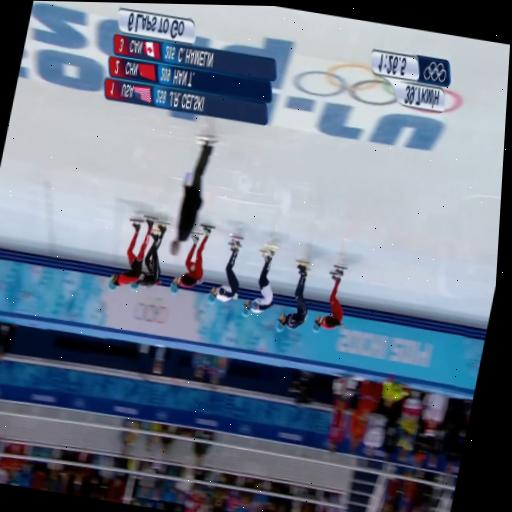Skater: (109, 218, 154, 290), (171, 225, 212, 293), (131, 223, 167, 289), (242, 248, 275, 316), (276, 263, 308, 331), (208, 240, 240, 303), (313, 266, 344, 331)
